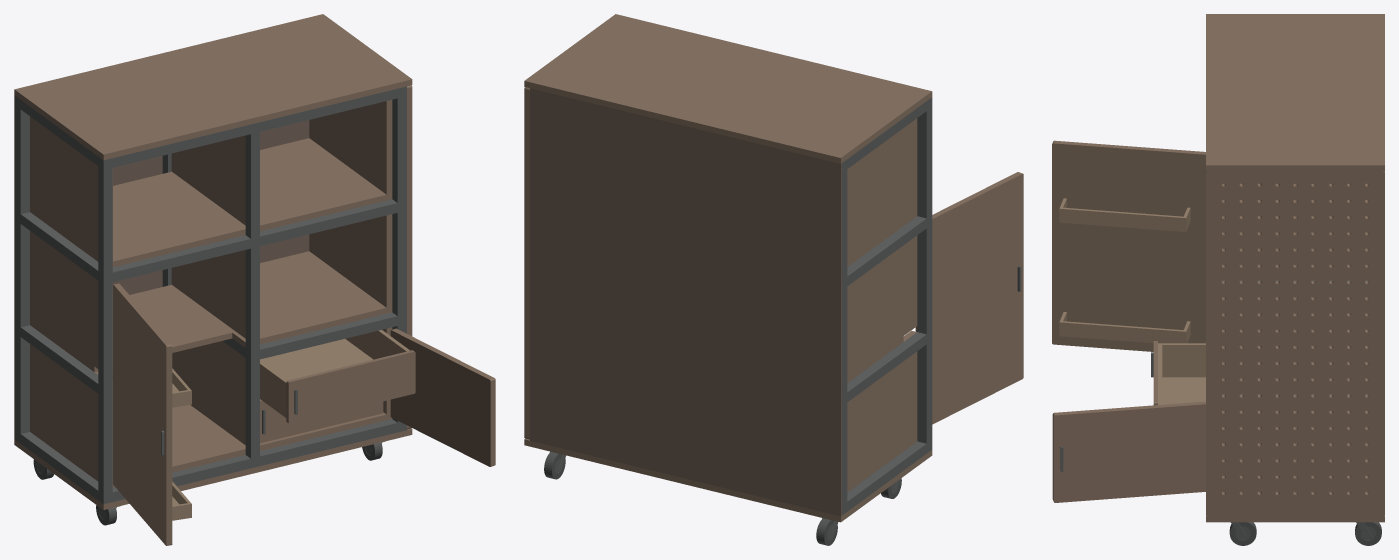
Rendered from open.glb.
The picture shows the model from 3 angles, left to right: view 1: azimuth 30°, elevation 25°; view 2: azimuth 150°, elevation 25°; view 3: azimuth 270°, elevation 25°; orthographic projection. The views are drawn at different scales.
Parts seen in each view (by area): view 1: B04-top, B03-shelf, B60-left-door, B02-shelf, B61-right-door, B22-left-side, B21-left-side, B20-left-side, D1-face, A-post-0-0, B32-right-side, A-post-1-0 (+25 smaller); view 2: B40-back, B04-top, B60-left-door, B22-left-side, B21-left-side, B20-left-side, A-post-0-0, B00-base, A-post-0-1, B50-pegboard, A-depth-0-0, A-depth-2-0 (+2 smaller); view 3: B50-pegboard, B04-top, B60-left-door, B61-right-door, B70-lip, B71-lip, D1-left, B00-base, D1-bottom, B71-bottom, B70-bottom.
Boxes of the visible parts, x1,y1,x2,y2 form: B04-top: (14, 14, 412, 160); B03-shelf: (30, 138, 392, 267); B60-left-door: (113, 283, 172, 545); B02-shelf: (30, 251, 392, 371); B61-right-door: (390, 328, 495, 466); B22-left-side: (30, 116, 112, 261); B21-left-side: (30, 231, 112, 374); B20-left-side: (30, 344, 112, 480); D1-face: (286, 350, 415, 424); A-post-0-0: (98, 157, 112, 504); B32-right-side: (309, 100, 392, 194); A-post-1-0: (245, 122, 259, 468); B40-back: (530, 88, 841, 516); B04-top: (524, 14, 932, 163); B60-left-door: (915, 172, 1023, 424); B22-left-side: (847, 118, 917, 260); B21-left-side: (847, 235, 917, 376); B20-left-side: (847, 330, 917, 486); A-post-0-0: (917, 97, 932, 453); B00-base: (524, 438, 932, 522); A-post-0-1: (842, 159, 847, 515); B50-pegboard: (524, 87, 529, 439); A-depth-0-0: (847, 441, 926, 511); A-depth-2-0: (847, 216, 926, 286); B50-pegboard: (1206, 171, 1384, 516); B04-top: (1206, 14, 1384, 170); B60-left-door: (1052, 140, 1205, 351); B61-right-door: (1052, 401, 1205, 502); B70-lip: (1059, 321, 1186, 342); B71-lip: (1059, 207, 1186, 229); D1-left: (1158, 343, 1205, 377); B00-base: (1206, 515, 1384, 522); D1-bottom: (1162, 377, 1205, 403); B71-bottom: (1059, 219, 1190, 231); B70-bottom: (1059, 333, 1190, 343).
Bounding box in the file's own units: 1.07 × 1.2 × 0.9298.
